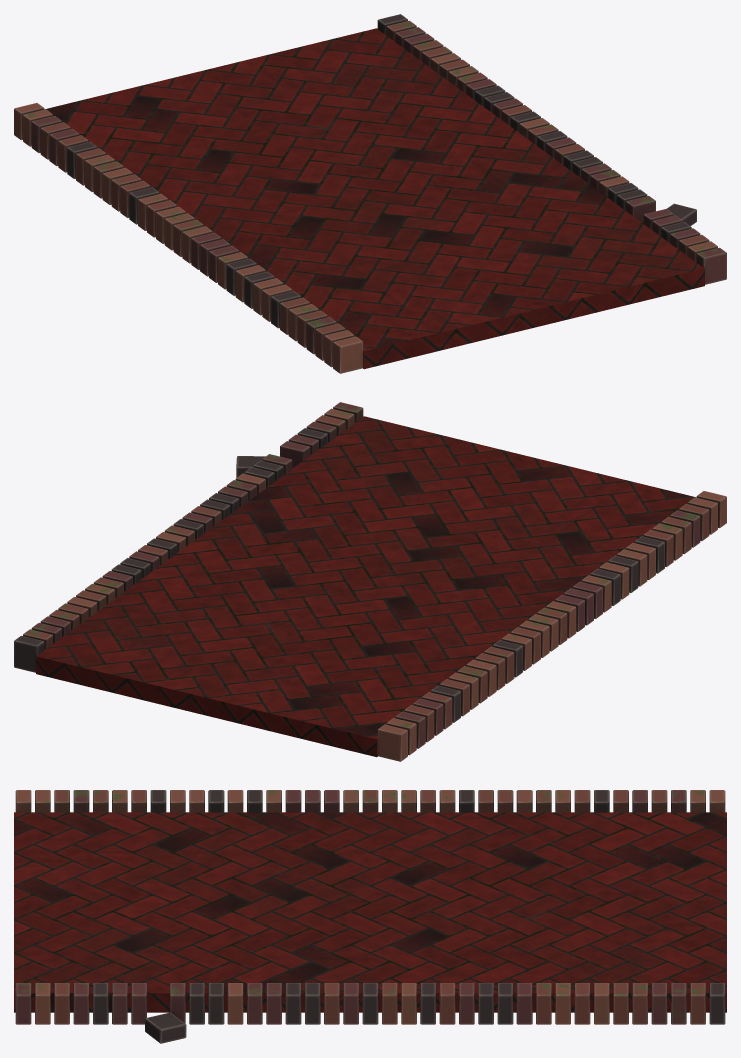
Rendered from PathHerringbone.fbx.
3 views of the same model, one above another, from view 1: azimuth 30°, elevation 25°; view 2: azimuth 150°, elevation 25°; view 3: azimuth 270°, elevation 25° (orthographic). The views are drawn at different scales.
Visible parts, largest first — view 1: PathHerringbone_Path, PathHerringbone_Main; view 2: PathHerringbone_Path, PathHerringbone_Main; view 3: PathHerringbone_Path, PathHerringbone_Main.
Part boxes in pixels (left/top/right/bottom): PathHerringbone_Path: left=44, top=28, right=704, bottom=369; PathHerringbone_Main: left=14, top=14, right=726, bottom=373; PathHerringbone_Path: left=36, top=416, right=696, bottom=757; PathHerringbone_Main: left=14, top=402, right=726, bottom=761; PathHerringbone_Path: left=14, top=812, right=726, bottom=1012; PathHerringbone_Main: left=15, top=790, right=725, bottom=1043.
Size of the model in its own units: 746 by 46 by 1000.
